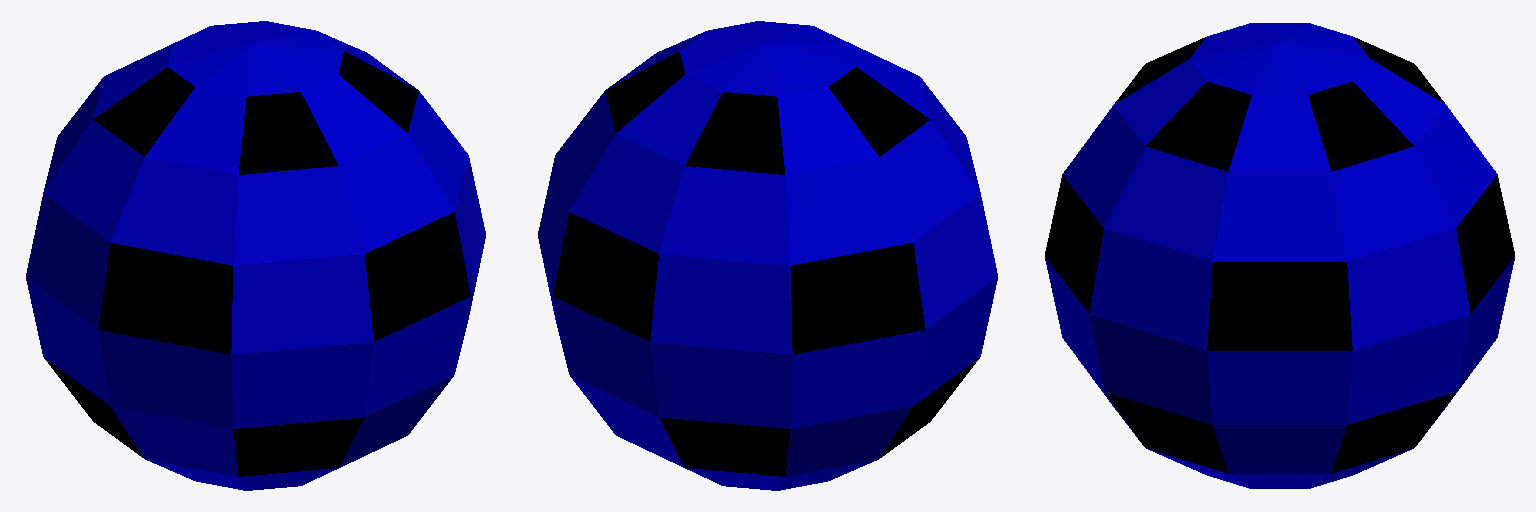
The model's file is ball.obj.
3 views of the same model, side by side, from view 1: azimuth 30°, elevation 25°; view 2: azimuth 150°, elevation 25°; view 3: azimuth 270°, elevation 25° (orthographic).
Visible parts, largest first — view 1: Sphere; view 2: Sphere; view 3: Sphere.
Part boxes in pixels (x1,y1,x2,y2): Sphere: (26, 21, 485, 490); Sphere: (538, 21, 997, 490); Sphere: (1045, 23, 1514, 488).
Size of the model in its own units: 1.9 by 2 by 2.